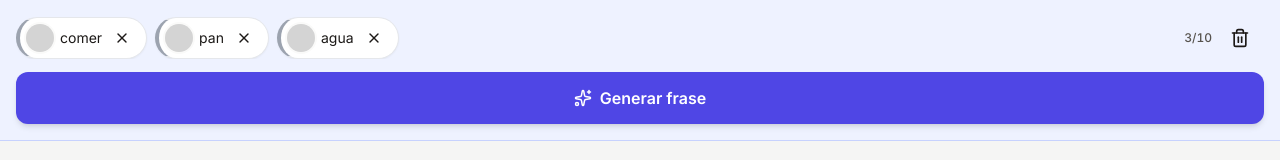
Test case: PhraseBar › accessibility › moves focus to next chip remove button after removing a chip
Click the button with test id "remove-chip" at (124, 38), box [110, 24, 138, 52]
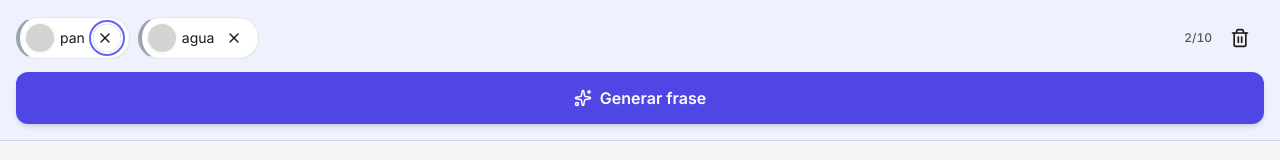
Expected: the number of buttons with test id "remove-chip" is 2, [93, 24, 121, 52]; [222, 24, 250, 52]
